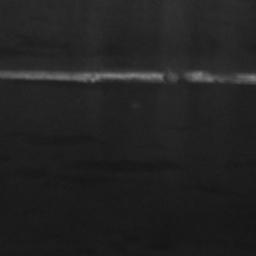Bright scratch: (0, 70, 178, 84), (184, 70, 256, 84)
